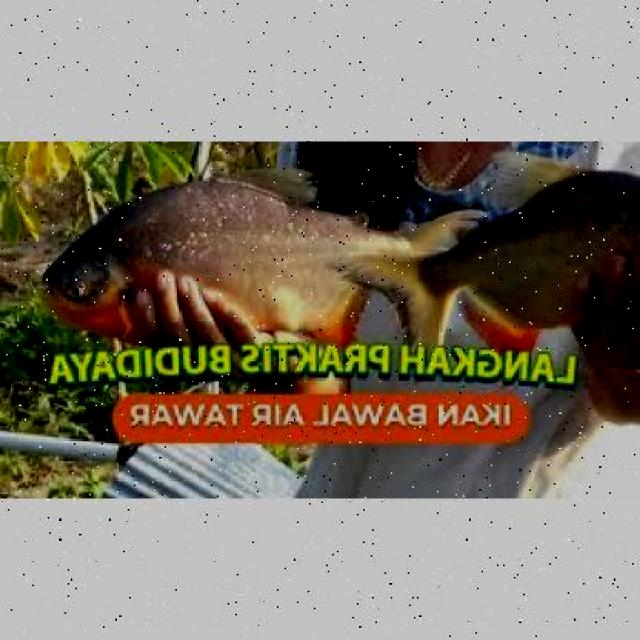ikan-pacu: (41, 164, 452, 340)
